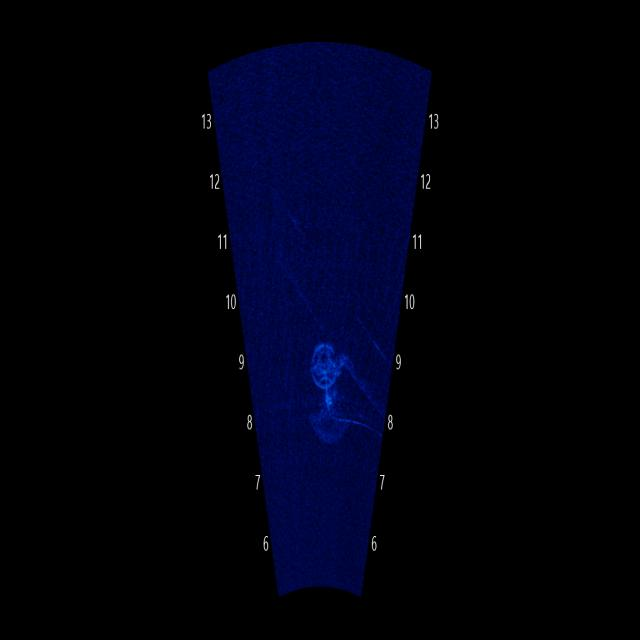circle: (300, 302, 361, 398)
